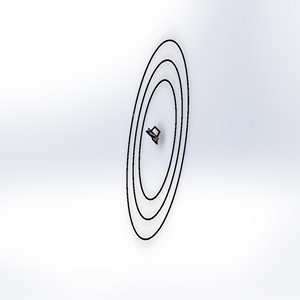circle: (110, 33, 203, 247)
submarine: (145, 118, 164, 155)
